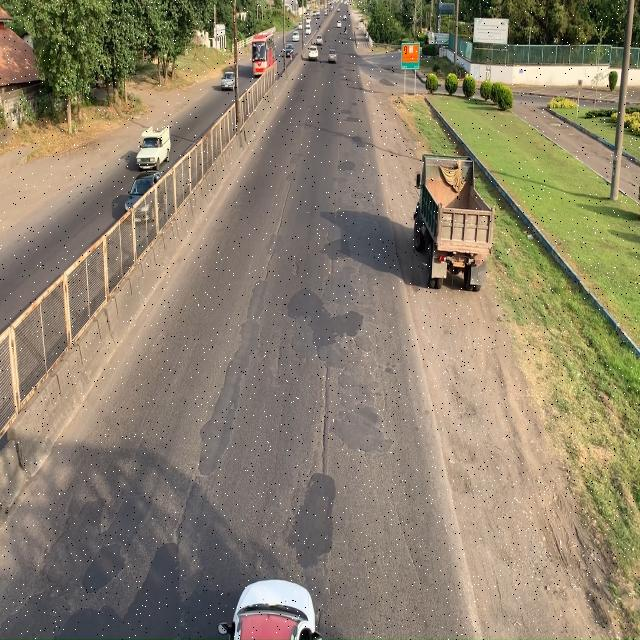Truck: (414, 152, 498, 292)
cars: (137, 125, 170, 169)
